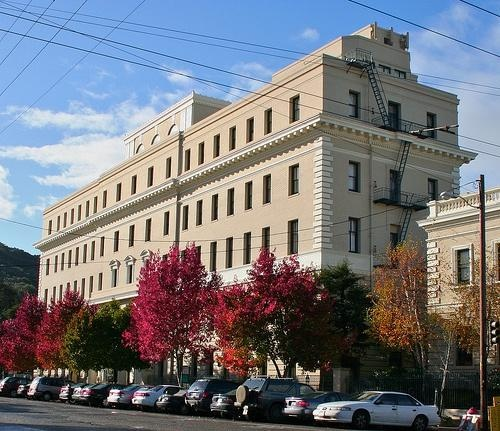car: (313, 390, 443, 431), (237, 377, 316, 425), (284, 390, 355, 428), (182, 380, 233, 417), (133, 382, 177, 411), (108, 381, 149, 408), (28, 372, 60, 404), (157, 384, 191, 414), (210, 389, 240, 416), (79, 382, 111, 405), (60, 379, 83, 404), (73, 382, 87, 404)
